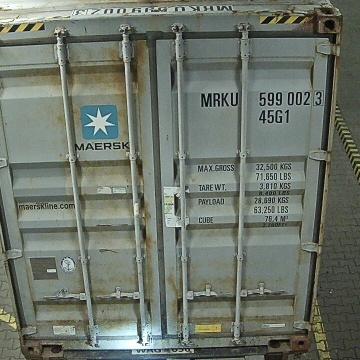serial_id: (201, 90, 324, 106)
